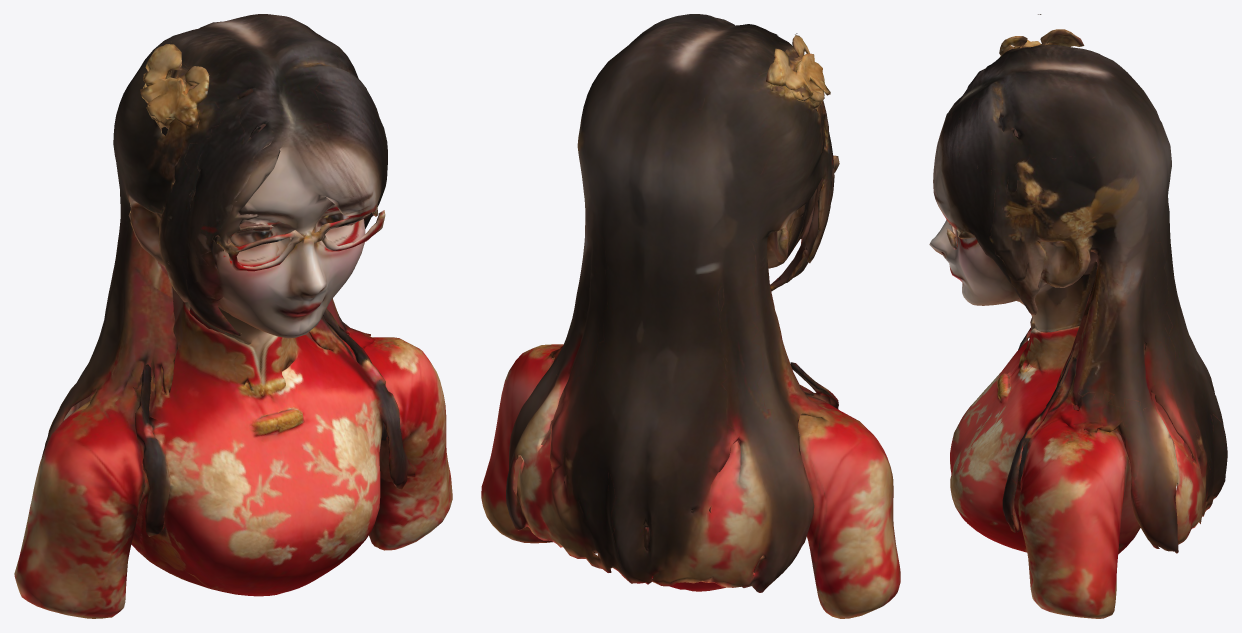
Rendered from refined_model.glb.
3 renders of one model, left to right at view 1: azimuth 30°, elevation 25°; view 2: azimuth 150°, elevation 25°; view 3: azimuth 270°, elevation 25°, orthographic. The views are drawn at different scales.
Bounding box in the file's own units: 1.57 × 2.04 × 1.09.
Materials: 1 (1 with a texture image).
